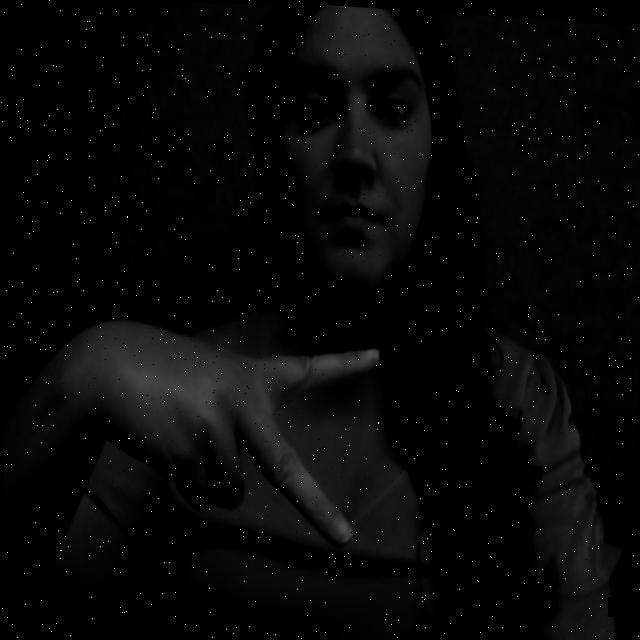Scissors: (41, 243, 487, 640)
